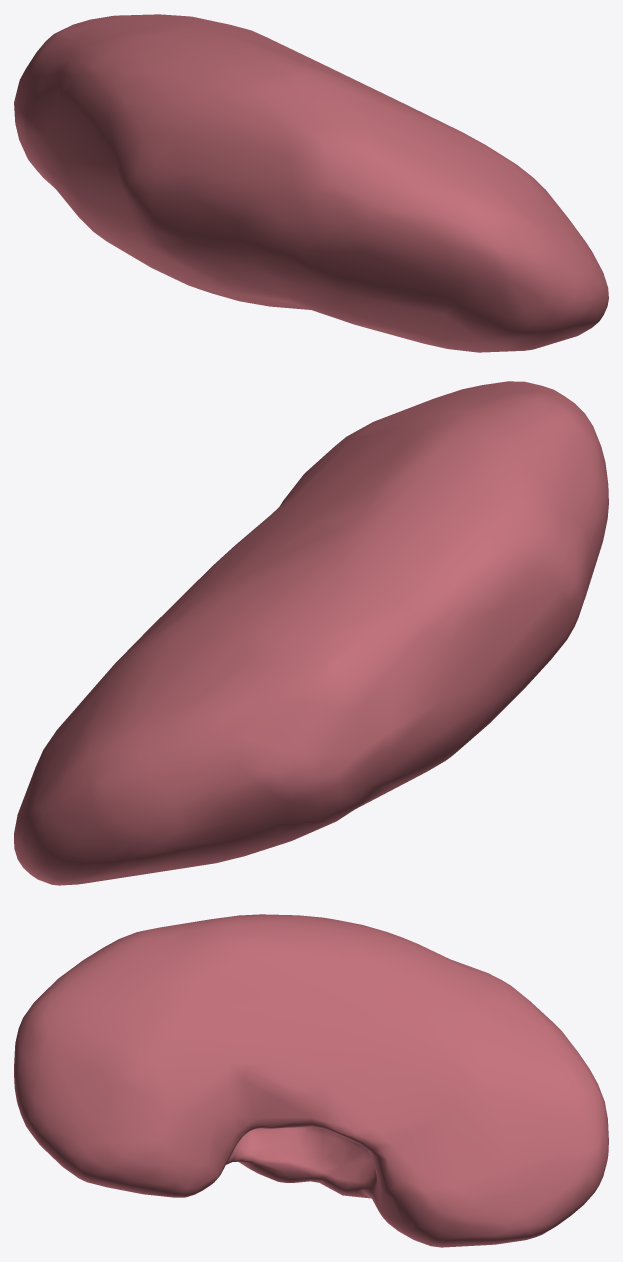
The picture shows the model from 3 angles, top to bottom: view 1: azimuth 30°, elevation 25°; view 2: azimuth 150°, elevation 25°; view 3: azimuth 270°, elevation 25°; orthographic projection. The views are drawn at different scales.
Parts seen in each view (by area): view 1: 右侧肾; view 2: 右侧肾; view 3: 右侧肾.
Part boxes in pixels (x1,y1,x2,y2): 右侧肾: (14,14,608,352); 右侧肾: (14,381,608,885); 右侧肾: (14,914,608,1247).
Bounding box in the file's own units: 0.0842 × 0.0695 × 0.1539.
